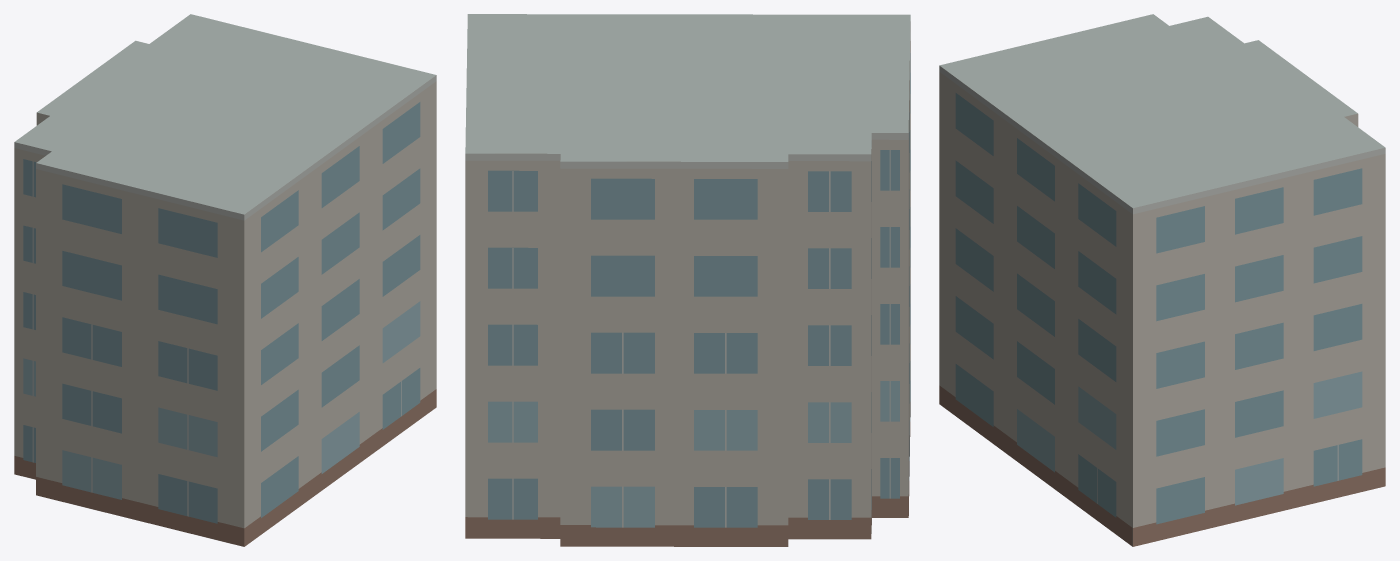
The model's file is survey-upis-32910685.glb.
3 views of the same model, side by side, from view 1: azimuth 30°, elevation 25°; view 2: azimuth 150°, elevation 25°; view 3: azimuth 270°, elevation 25° (orthographic). The views are drawn at different scales.
Visible parts, largest first — view 1: survey-upis-32910685.tmp; view 2: survey-upis-32910685.tmp; view 3: survey-upis-32910685.tmp.
Boxes of the visible parts, bbox=[...] form: survey-upis-32910685.tmp: bbox=[14, 14, 436, 546]; survey-upis-32910685.tmp: bbox=[465, 14, 910, 546]; survey-upis-32910685.tmp: bbox=[939, 14, 1385, 546].
Size of the model in its own units: 16.68 by 13.55 by 16.2.
